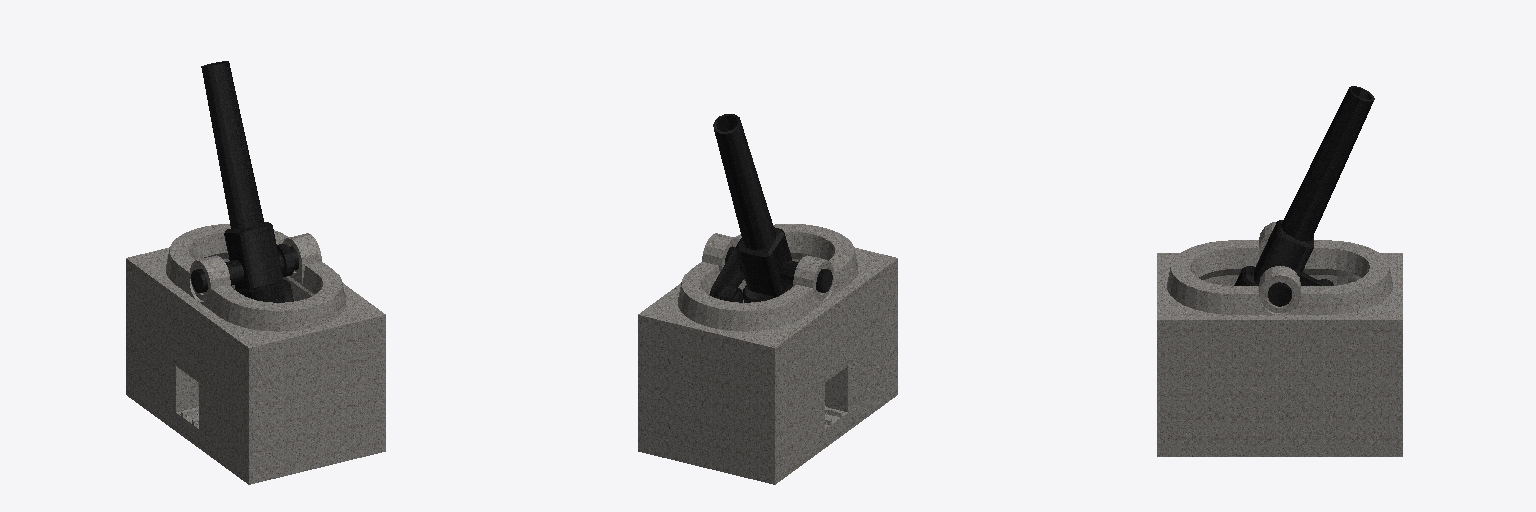
The picture shows the model from 3 angles: view 1: azimuth 30°, elevation 25°; view 2: azimuth 150°, elevation 25°; view 3: azimuth 270°, elevation 25°; orthographic projection.
Parts seen in each view (by area): view 1: Turret.003_Turret.004, Turret.001_Turret.002; view 2: Turret.003_Turret.004, Turret.001_Turret.002; view 3: Turret.003_Turret.004, Turret.001_Turret.002.
Part boxes in pixels (left/top/right/bottom): Turret.003_Turret.004: left=126, top=224, right=385, bottom=484; Turret.001_Turret.002: left=191, top=61, right=298, bottom=302; Turret.003_Turret.004: left=638, top=224, right=897, bottom=484; Turret.001_Turret.002: left=710, top=114, right=832, bottom=302; Turret.003_Turret.004: left=1157, top=222, right=1402, bottom=456; Turret.001_Turret.002: left=1234, top=86, right=1374, bottom=306.
Size of the model in its own units: 52.54 by 122 by 81.68.
7 materials, 4 textured.